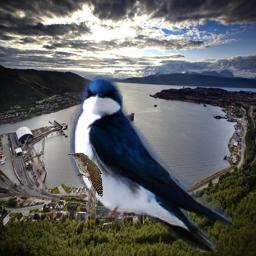Cuckoo: (68, 152, 103, 215)
Swallow: (70, 75, 232, 252)
